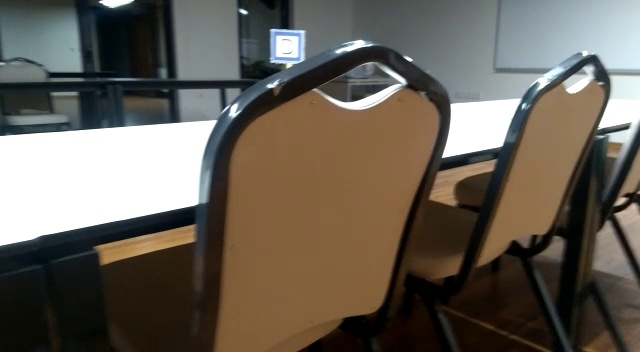durak: (268, 28, 305, 66)
